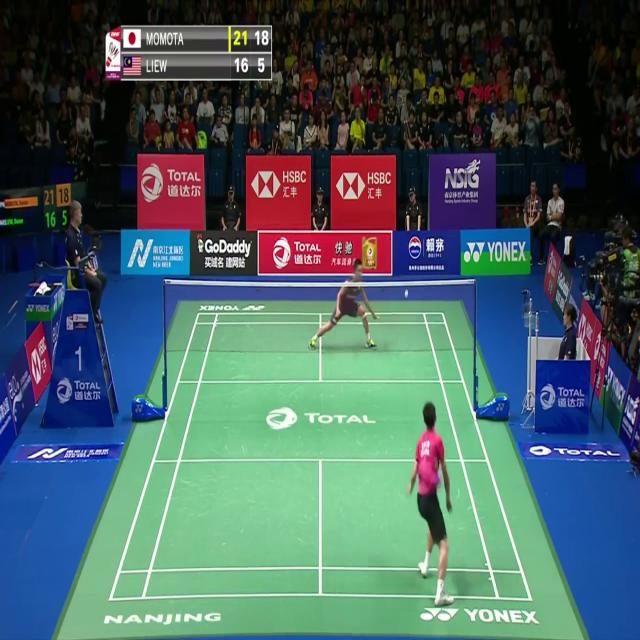Shuttlecock: (403, 288, 409, 300)
